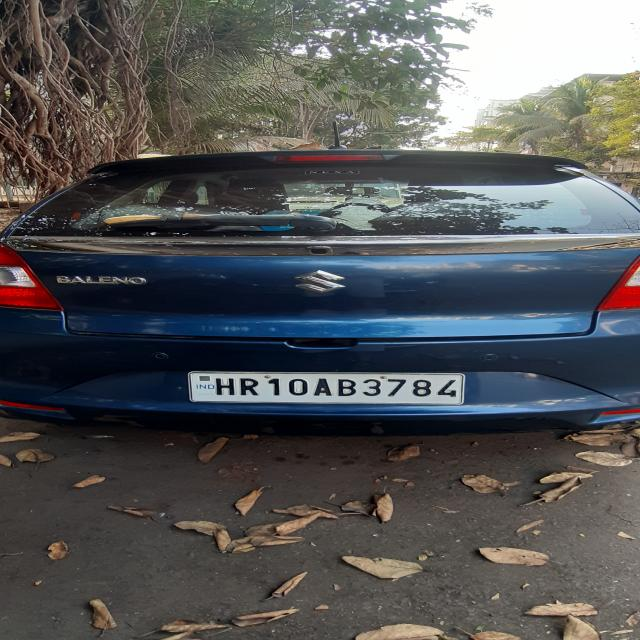Number-Plate: (190, 373, 473, 405)
